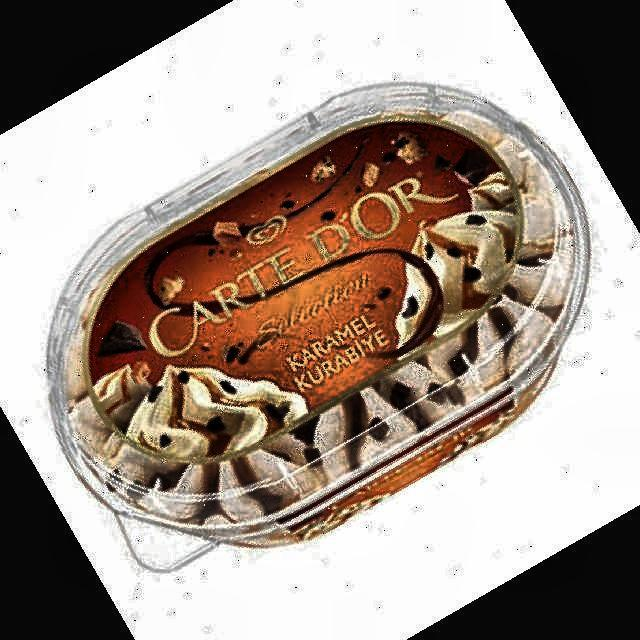plastic: (48, 84, 589, 569)
